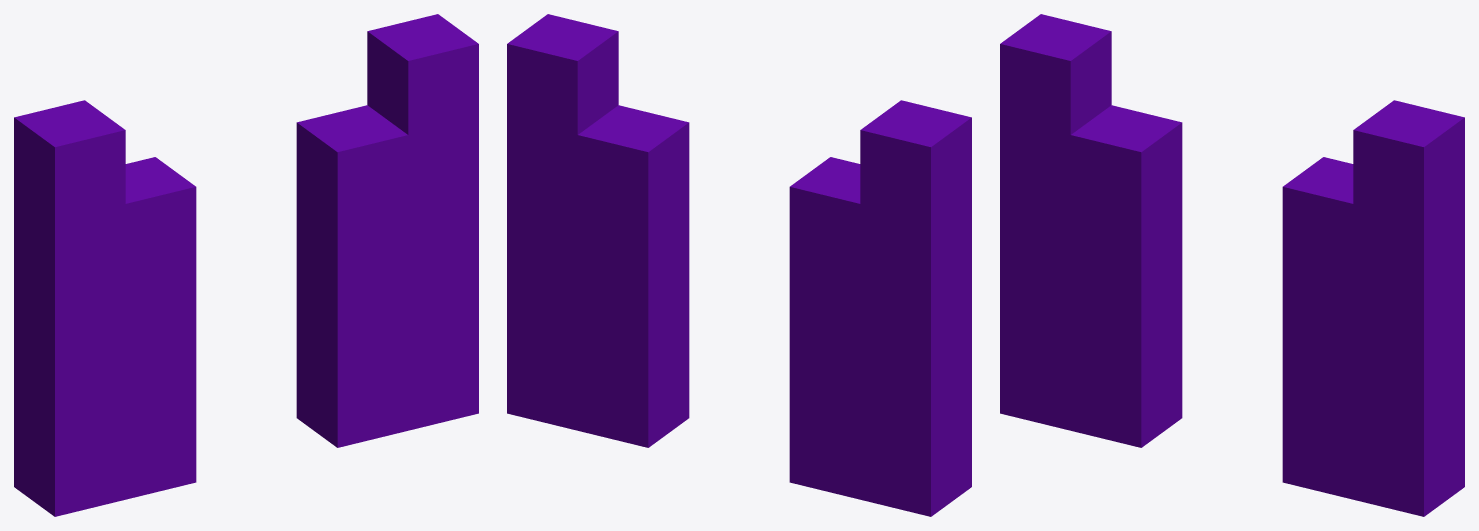
The model's file is Octo guy tail.obj.
3 views of the same model, side by side, from view 1: azimuth 30°, elevation 25°; view 2: azimuth 150°, elevation 25°; view 3: azimuth 330°, elevation 25° (orthographic).
Size of the model in its own units: 6 by 5 by 1.
1 material, 1 textured.
